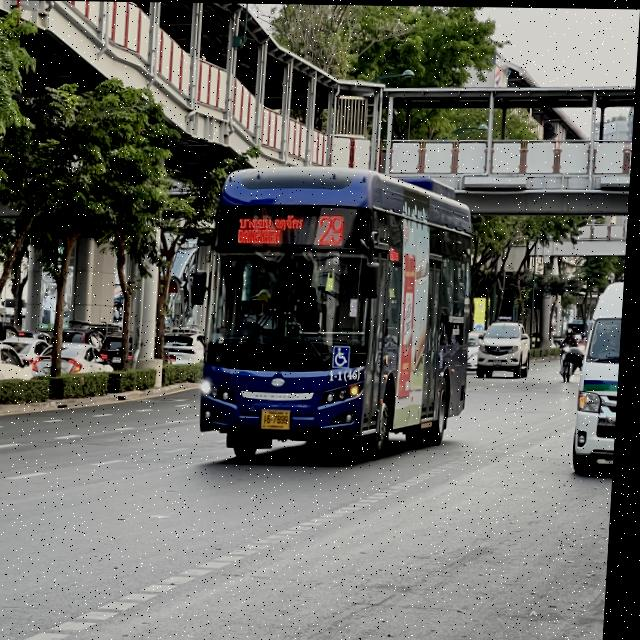Bus Line Number: (316, 211, 352, 246)
Bus Side Number: (331, 367, 366, 380)
Destination Sign: (239, 213, 309, 247)
TSB-Bus: (187, 158, 483, 479)
